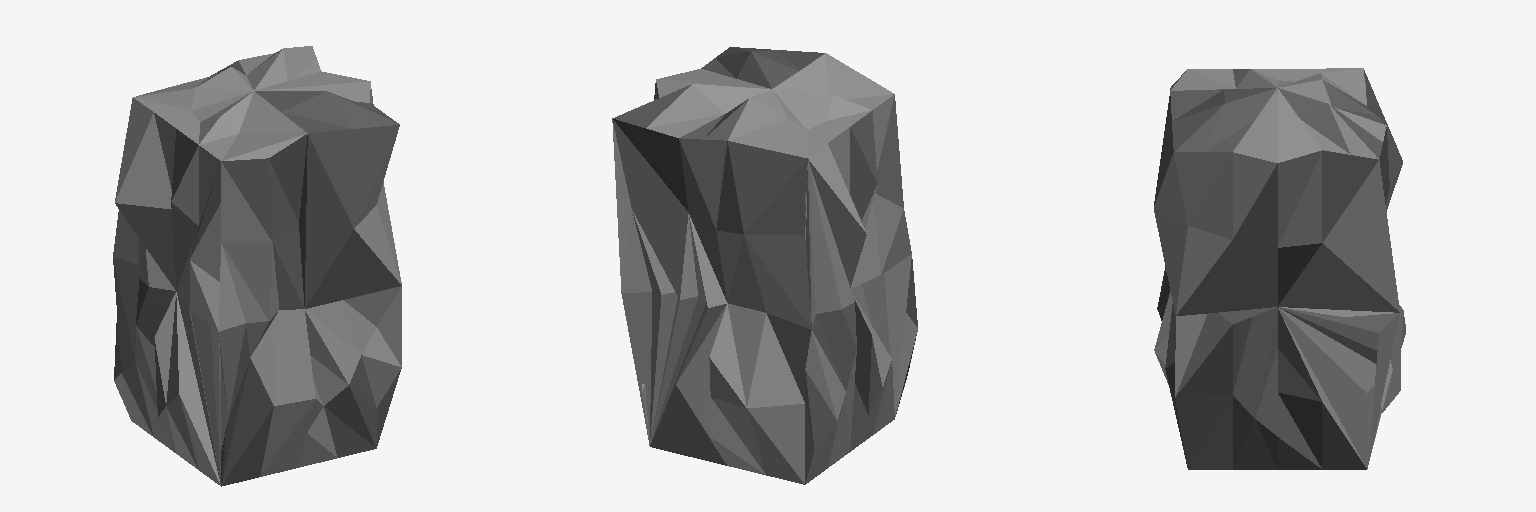
The model's file is cloud.1337cfe0.obj.
3 renders of one model, left to right at view 1: azimuth 30°, elevation 25°; view 2: azimuth 150°, elevation 25°; view 3: azimuth 270°, elevation 25°, orthographic.
Visible parts, largest first — view 1: Cloud_Cube.001; view 2: Cloud_Cube.001; view 3: Cloud_Cube.001.
Part boxes in pixels (bbox=[...]): Cloud_Cube.001: bbox=[113, 46, 401, 486]; Cloud_Cube.001: bbox=[612, 47, 917, 484]; Cloud_Cube.001: bbox=[1154, 68, 1405, 469].
Size of the model in its own units: 3.09 by 4.36 by 2.82.